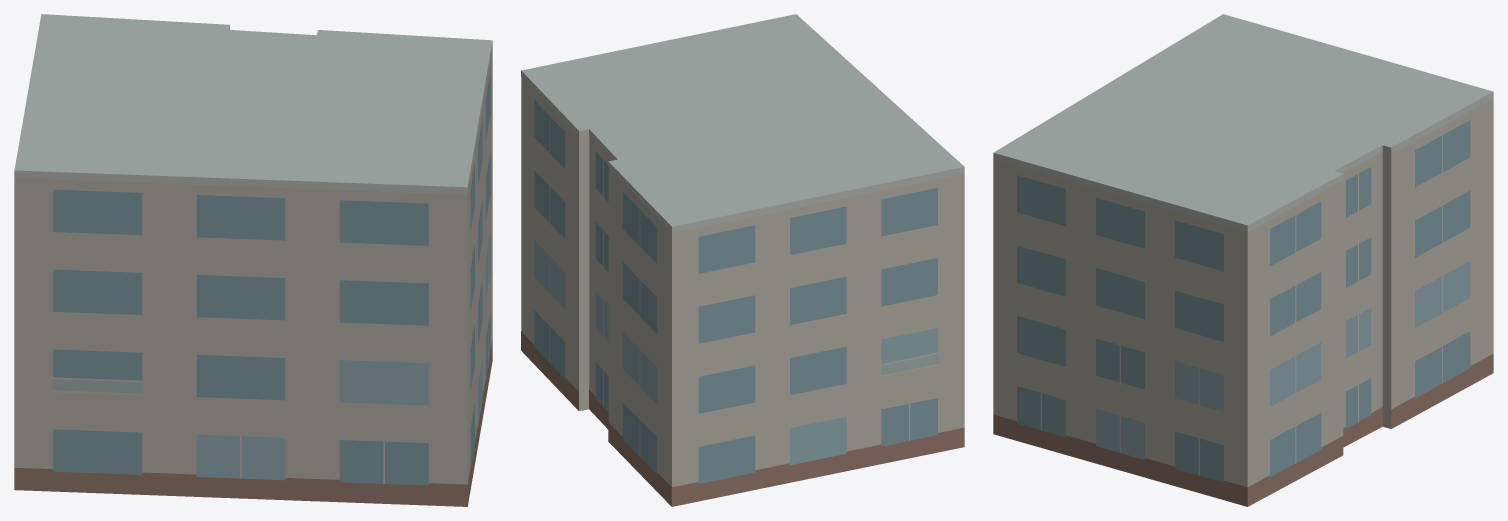
Rendered from survey-upis-32655174.glb.
3 renders of one model, left to right at view 1: azimuth 30°, elevation 25°; view 2: azimuth 150°, elevation 25°; view 3: azimuth 270°, elevation 25°, orthographic. The views are drawn at different scales.
Visible parts, largest first — view 1: survey-upis-32655174.tmp; view 2: survey-upis-32655174.tmp; view 3: survey-upis-32655174.tmp.
Boxes of the visible parts, left/top/right/bottom form: survey-upis-32655174.tmp: left=14, top=14, right=492, bottom=506; survey-upis-32655174.tmp: left=521, top=14, right=964, bottom=506; survey-upis-32655174.tmp: left=993, top=14, right=1493, bottom=506.
Size of the model in its own units: 16.77 by 10.4 by 16.77.
